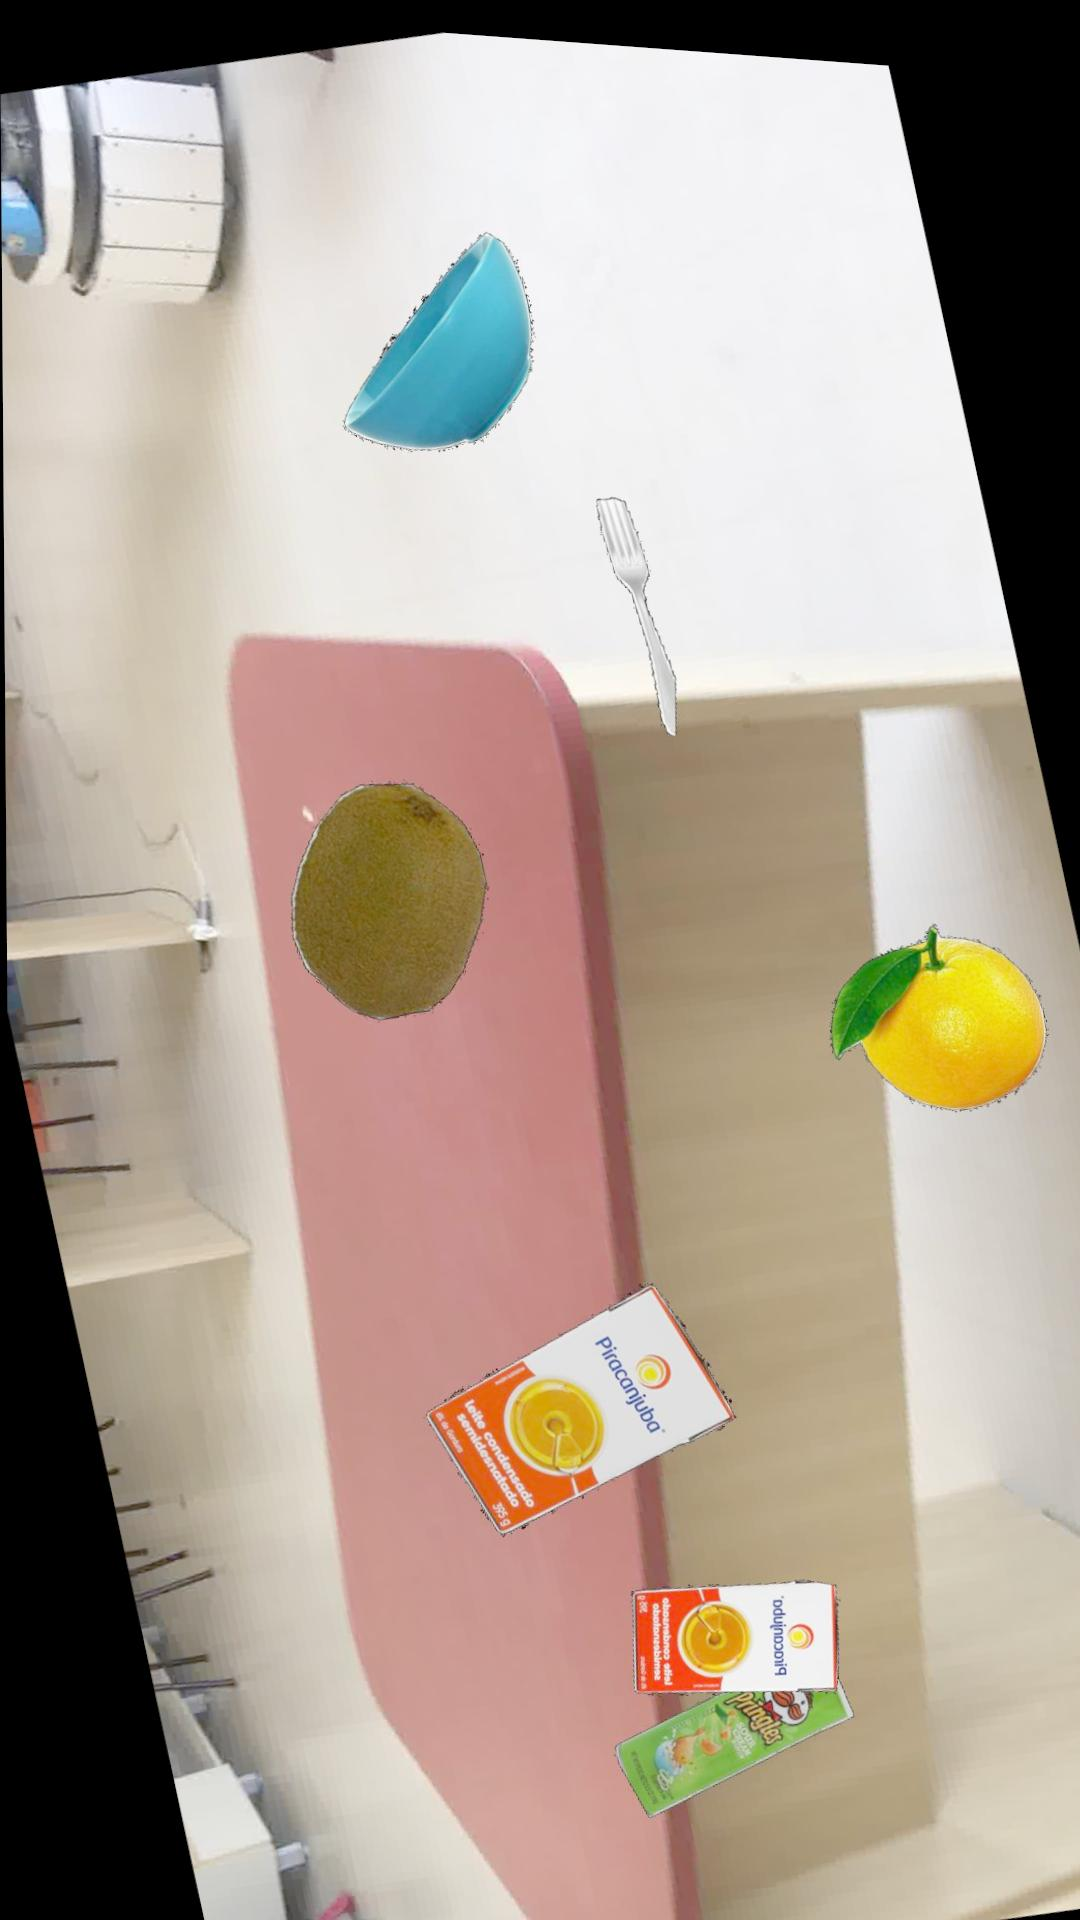bowl: (343, 222, 533, 442)
fork: (595, 484, 675, 723)
kiwi: (290, 774, 485, 1011)
orange: (828, 907, 1046, 1095)
pringles: (612, 1660, 851, 1805)
